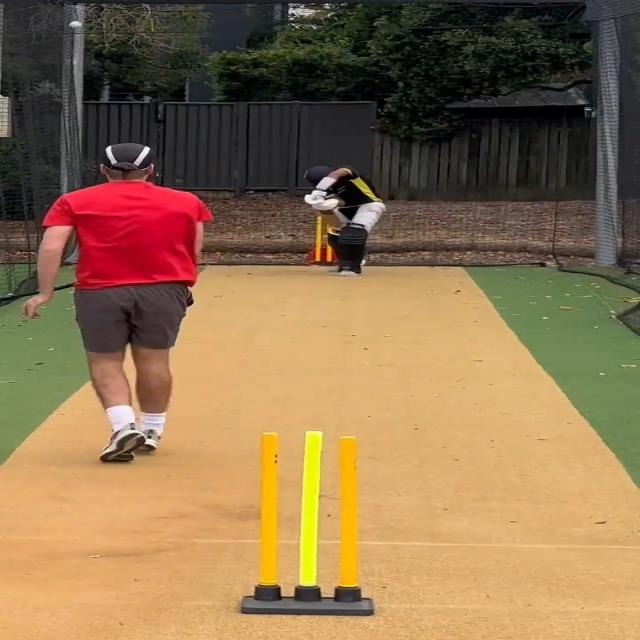stump: (236, 428, 377, 616)
